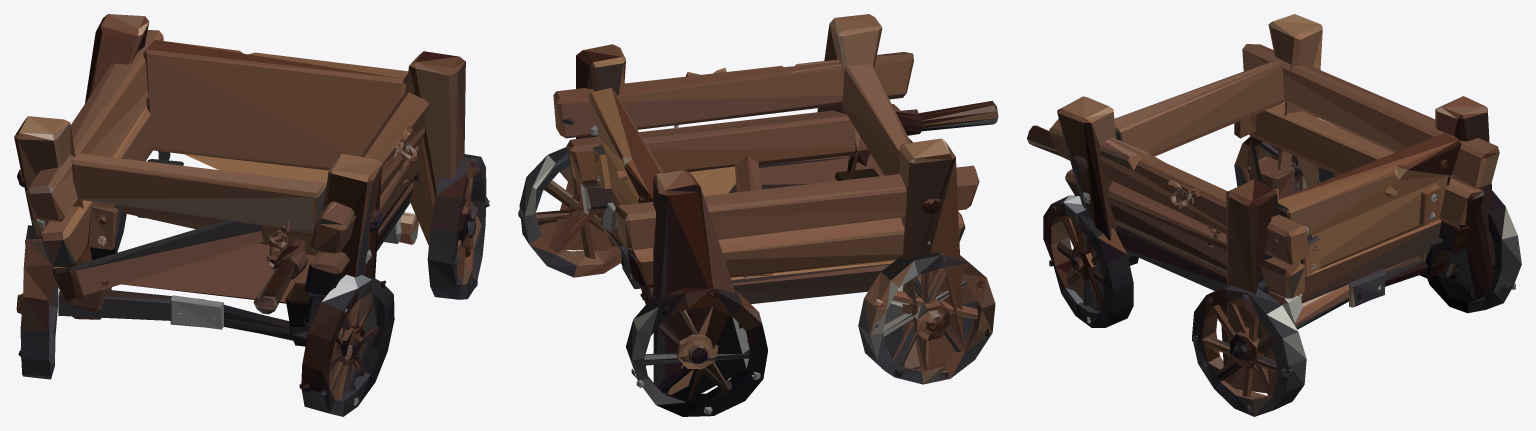
Rendered from Cart_Hand.glb.
3 views of the same model, side by side, from view 1: azimuth 30°, elevation 25°; view 2: azimuth 150°, elevation 25°; view 3: azimuth 270°, elevation 25° (orthographic). The views are drawn at different scales.
Visible parts, largest first — view 1: world; view 2: world; view 3: world.
Part boxes in pixels (<box>): world: <box>14,14,489,416</box>; world: <box>518,14,998,416</box>; world: <box>1027,14,1521,416</box>.
Bounding box in the file's own units: 0.4844 × 0.2363 × 0.4805.
